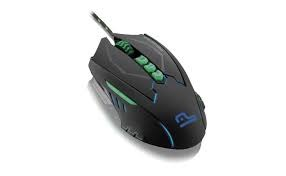mouse: (79, 29, 214, 156)
